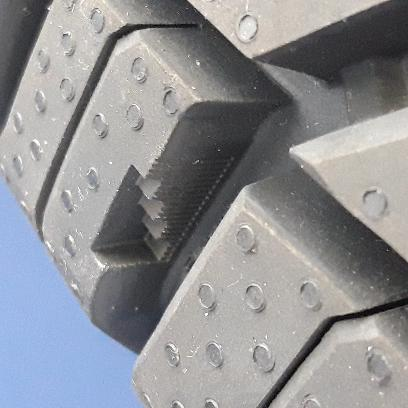temoin:100: (88, 153, 242, 272)
